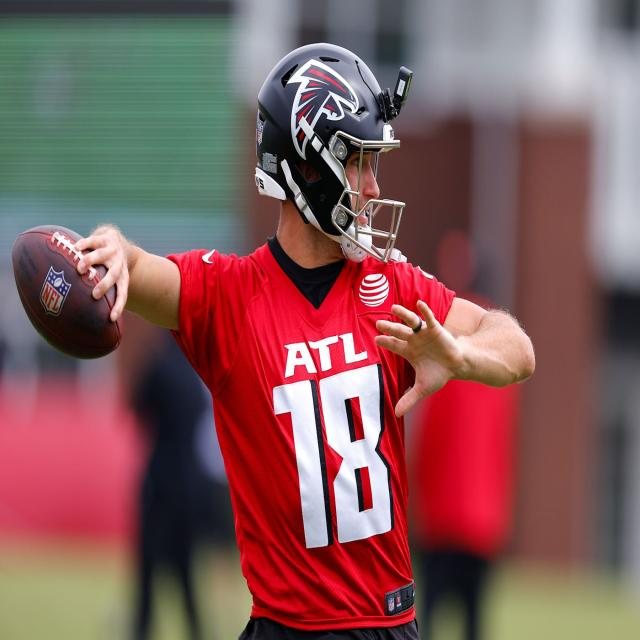Ball: (11, 226, 123, 362)
